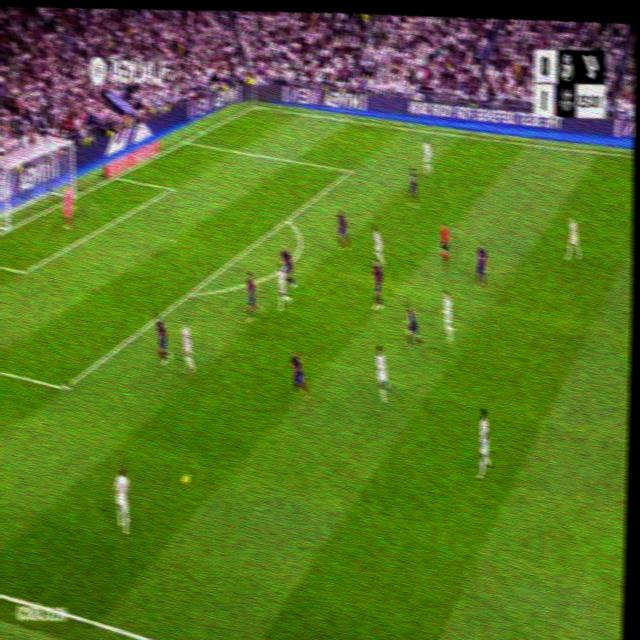bigarea_bottom_inner: (57, 372, 71, 401)
bigarea_top_inner: (347, 163, 353, 177)
bottom_arc_area_intersection: (184, 283, 195, 302)
corner: (249, 98, 259, 111)
smallarea_bottom_inner: (18, 261, 29, 281)
smallarea_top_inner: (167, 183, 175, 193)
top_arc_area_intersection: (284, 211, 291, 224)
